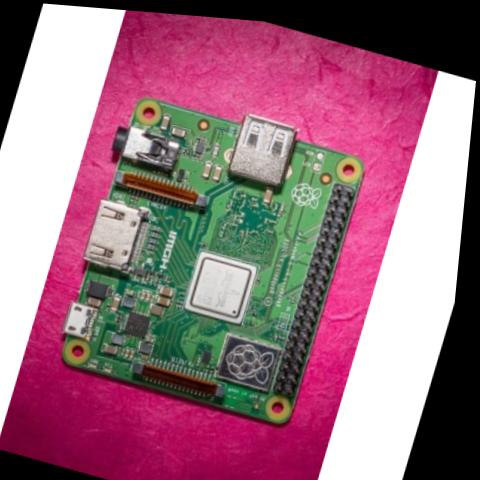Raspberry-Pi-3-Model-A-: (46, 69, 387, 437)
